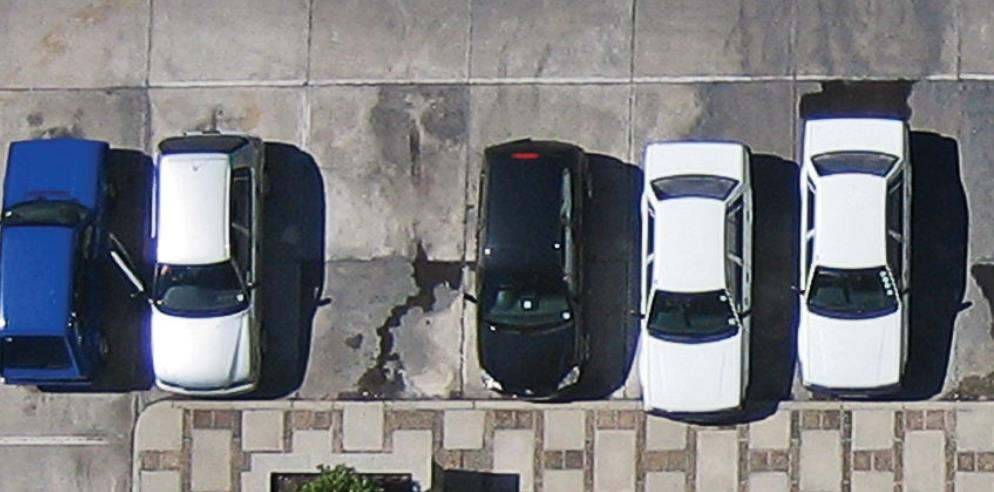car: (465, 140, 601, 408), (789, 113, 917, 396), (633, 134, 756, 428), (139, 133, 272, 400), (1, 132, 111, 387)
